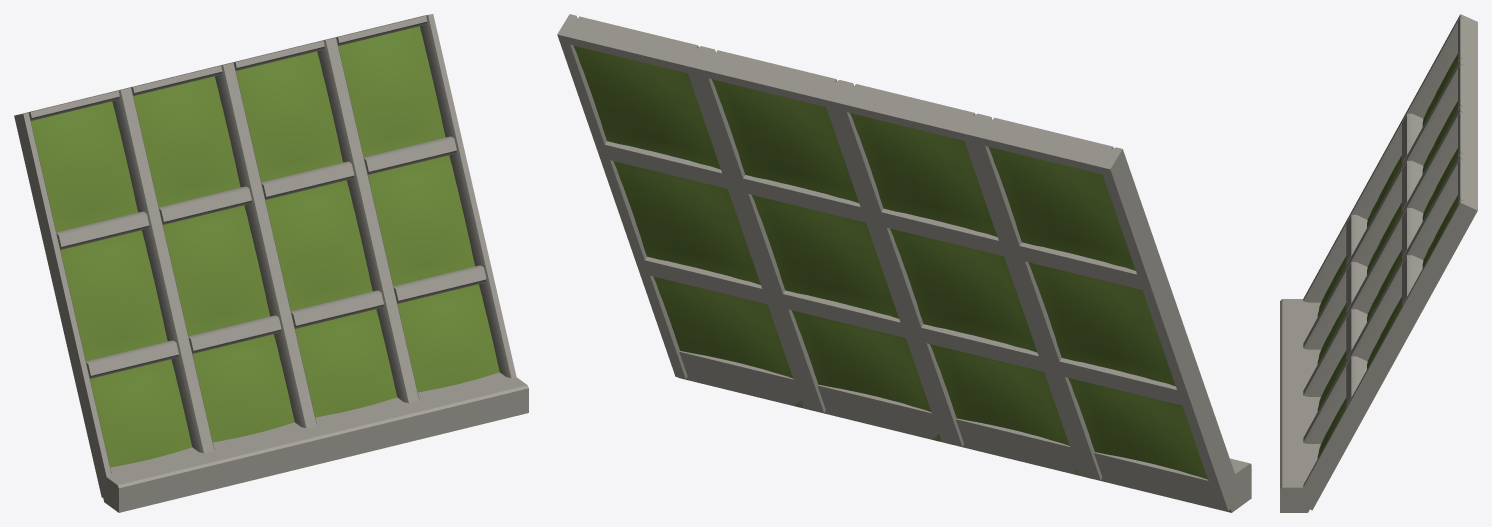
File: slope_protection_grid_wall_grass.fbx
The picture shows the model from 3 angles, left to right: view 1: azimuth 30°, elevation 25°; view 2: azimuth 150°, elevation 25°; view 3: azimuth 270°, elevation 25°; orthographic projection. The views are drawn at different scales.
Visible parts, largest first — view 1: slope_protection_grid_wall_grass; view 2: slope_protection_grid_wall_grass; view 3: slope_protection_grid_wall_grass.
Part boxes in pixels (x1=…): slope_protection_grid_wall_grass: x1=14, y1=14, x2=528, y2=512; slope_protection_grid_wall_grass: x1=557, y1=14, x2=1251, y2=512; slope_protection_grid_wall_grass: x1=1280, y1=14, x2=1477, y2=512.
Size of the model in its own units: 8 by 6.13 by 3.54.
